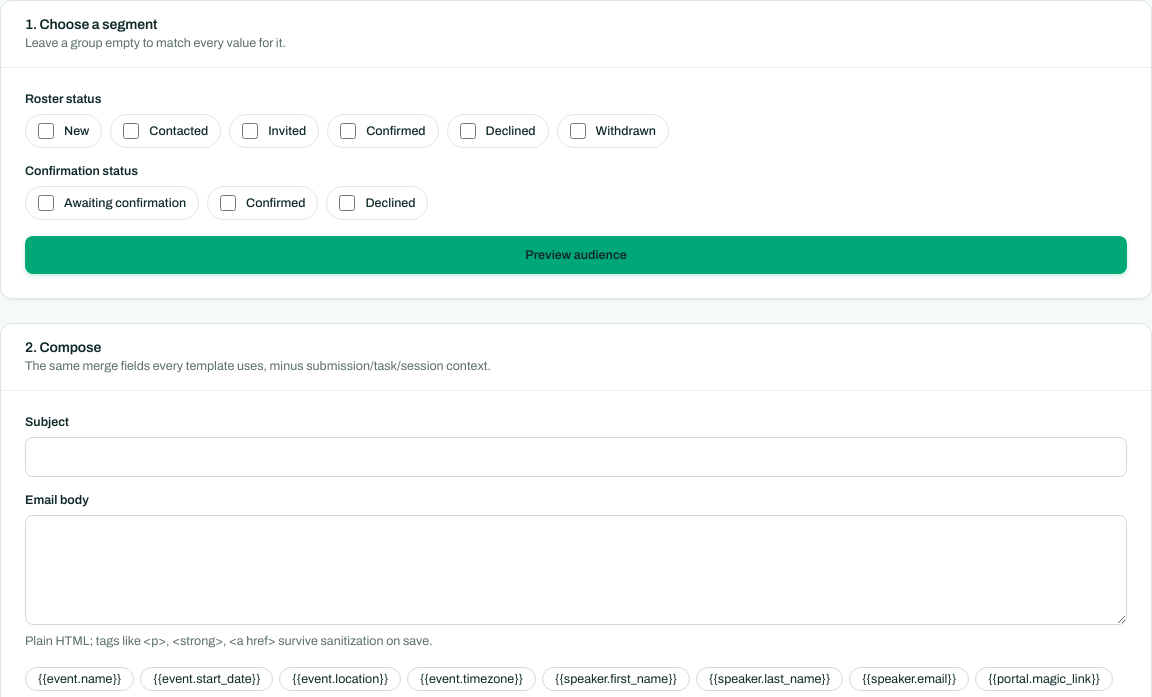
it: segment bulk email recovery › ignores an older audience response after shared recovery takes over
Step 1. Click the button "Preview audience" → (576, 255), box [25,236,1127,274]
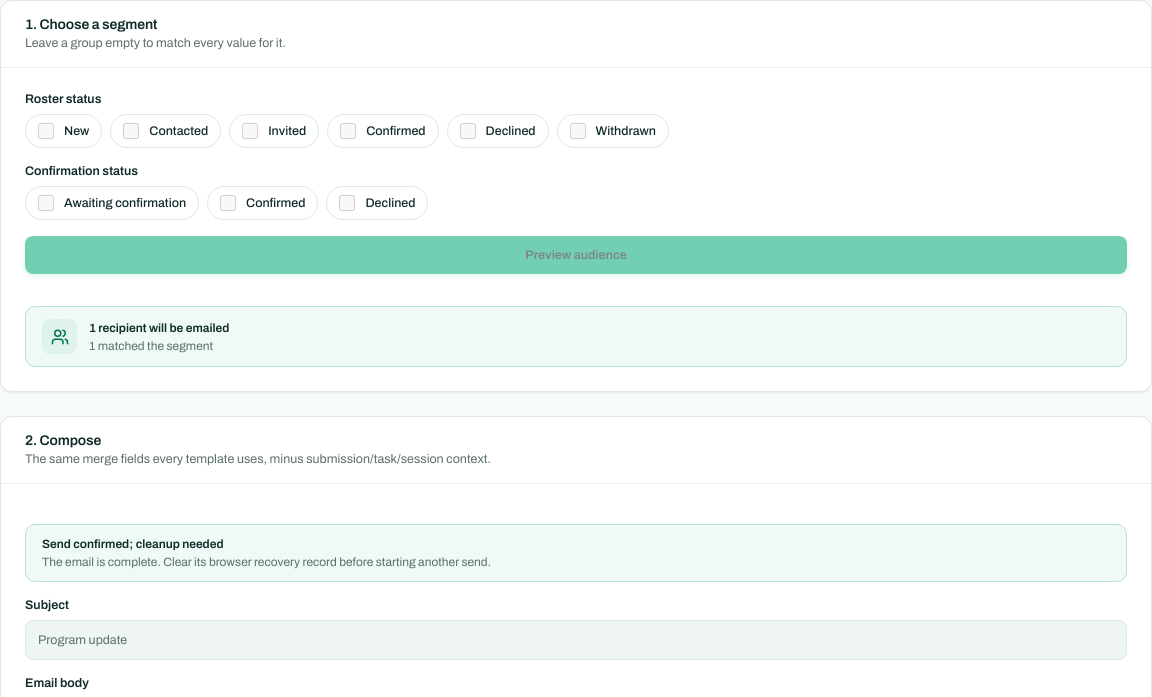
Expected: the text "1 recipient will be emailed" is shown, [89,320,229,334]
Expected: the text "Send confirmed; cleanup needed" is shown, [42,537,224,551]
